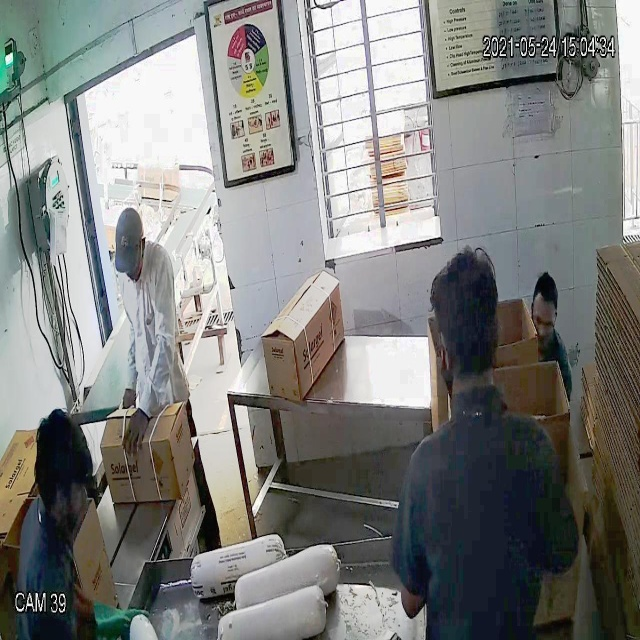Gafas: (530, 308, 557, 339)
